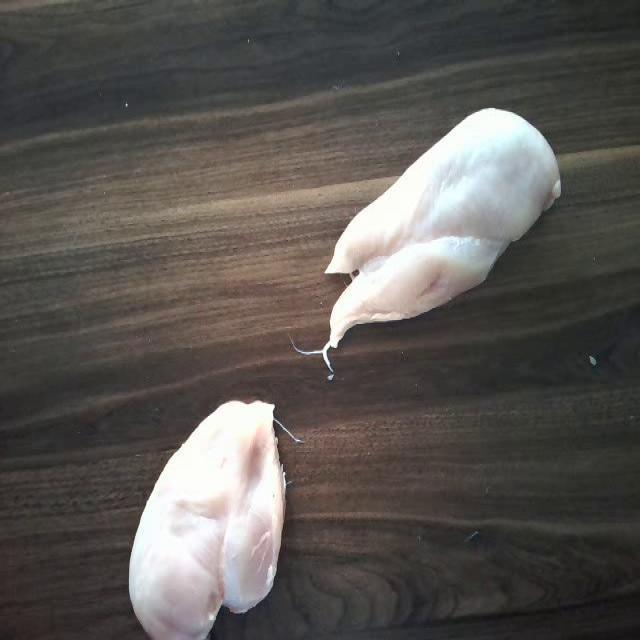breast: (330, 97, 552, 320), (128, 391, 289, 640)
